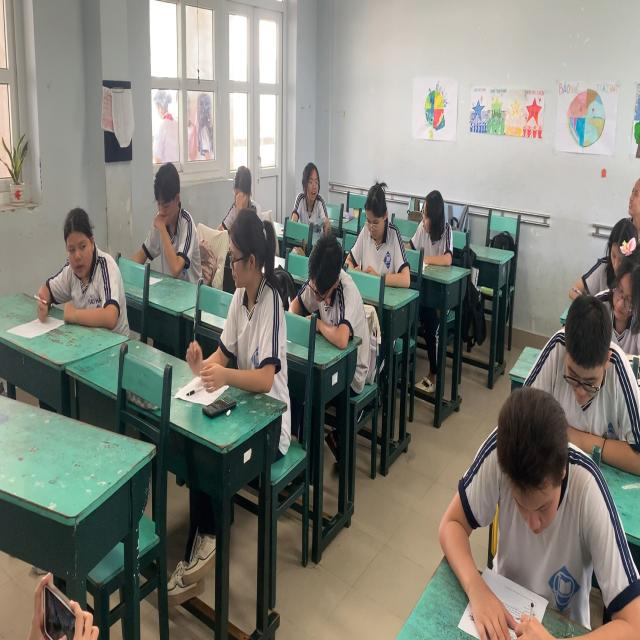cheating: (200, 210, 289, 397), (29, 203, 122, 332), (279, 155, 334, 234), (406, 185, 455, 262)
not_cheating: (435, 390, 606, 618), (544, 300, 618, 435), (130, 166, 200, 282), (300, 231, 361, 352), (352, 173, 404, 286), (218, 158, 258, 213), (600, 227, 636, 276), (614, 276, 640, 324)
